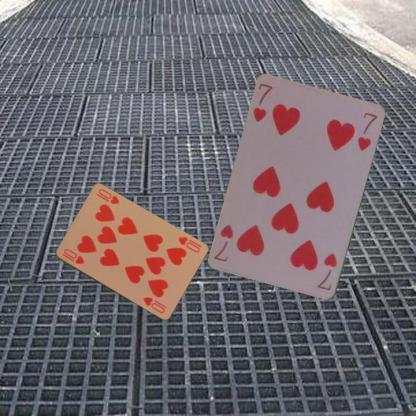10h: (59, 245, 86, 266), (174, 234, 200, 254)
7h: (250, 81, 275, 124), (315, 251, 338, 292)
